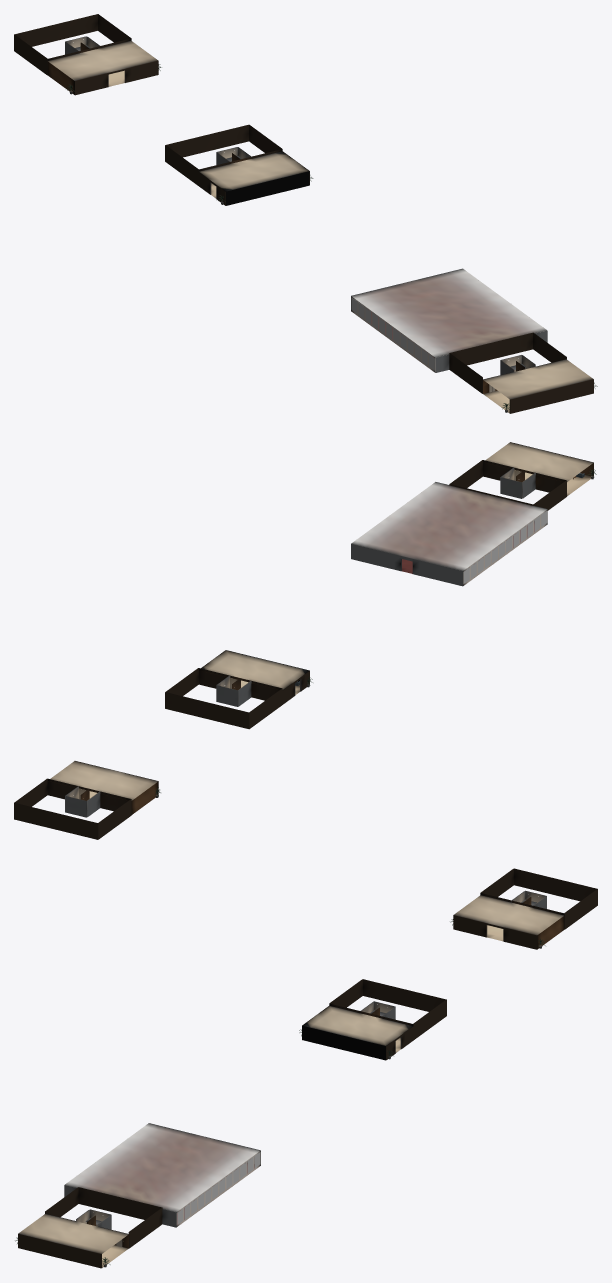
The model's file is deck16.glb.
3 views of the same model, one above another, from view 1: azimuth 30°, elevation 25°; view 2: azimuth 150°, elevation 25°; view 3: azimuth 330°, elevation 25° (orthographic).
Parts seen in each view (by area): view 1: kr_decke, kr_holz, kr_wand, kr_glas, kr_marmor; view 2: kr_decke, kr_holz, kr_wand, kr_glas; view 3: kr_decke, kr_holz, kr_wand, kr_glas, kr_marmor.
Part boxes in pixels (box(x1,y1,x2,y2)): kr_decke: box(48, 40, 593, 399); kr_holz: box(14, 14, 593, 413); kr_wand: box(65, 36, 547, 374); kr_glas: box(351, 298, 434, 370); kr_marmor: box(69, 70, 509, 413); kr_decke: box(50, 442, 593, 800); kr_holz: box(14, 442, 593, 839); kr_wand: box(65, 468, 547, 817); kr_glas: box(464, 511, 546, 583); kr_decke: box(18, 895, 563, 1253); kr_holz: box(18, 868, 597, 1268); kr_wand: box(64, 890, 546, 1229); kr_glas: box(177, 1152, 260, 1224); kr_marmor: box(102, 925, 542, 1267).
Size of the model in its own units: 21.44 by 3 by 164.
